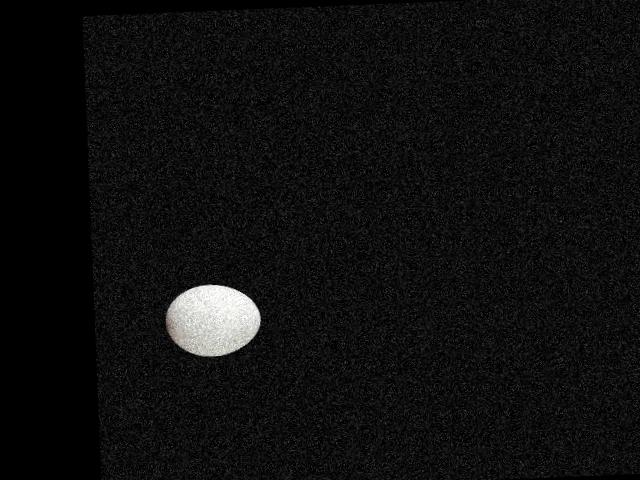egg: (163, 282, 261, 357)
